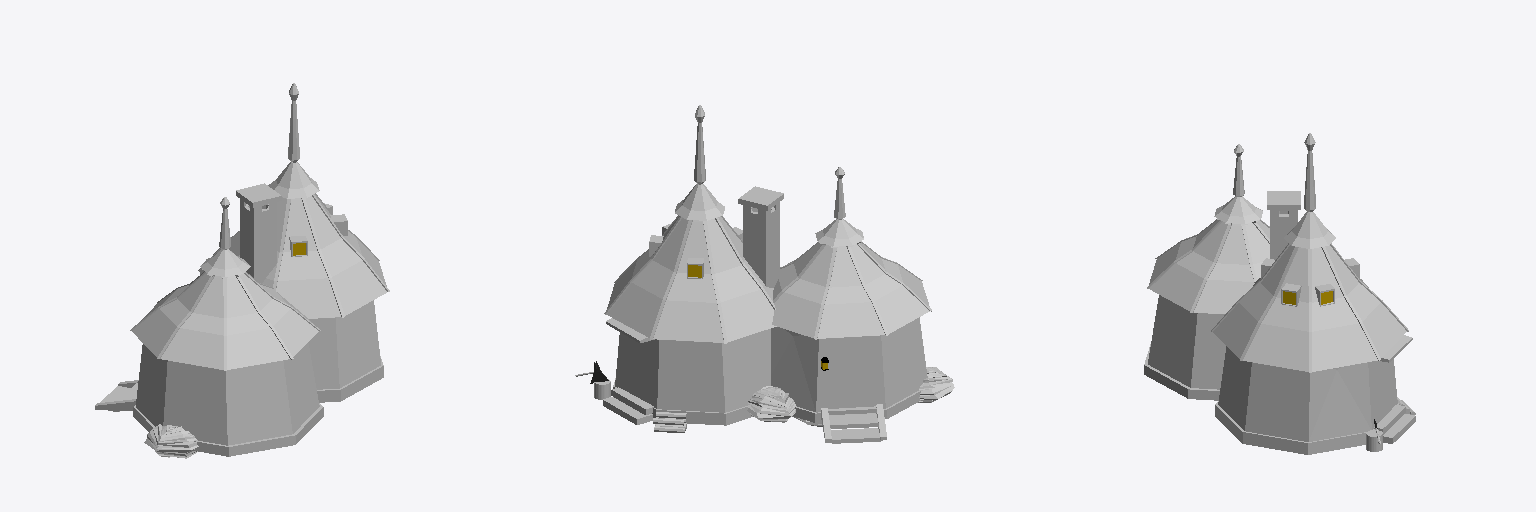
Rendered from hagrid.obj.
3 views of the same model, side by side, from view 1: azimuth 30°, elevation 25°; view 2: azimuth 150°, elevation 25°; view 3: azimuth 270°, elevation 25° (orthographic).
Parts seen in each view (by area): view 1: Circle.003, Circle.004, Circle.001, Circle, Cube, Circle.002, Circle.005, Sphere.002, Cube.018; view 2: Circle.001, Circle.004, Circle.003, Circle, Cube, Cube.018, Circle.002, Sphere.001, Circle.005, Sphere.002, Cylinder.003, Cube.011; view 3: Circle.001, Circle, Circle.004, Circle.003, Circle.002, Cube, Circle.005.
Boxes of the visible parts, box(x1,y1,x2,y2) form: Circle.003: box(133, 343, 323, 456); Circle.004: box(130, 269, 320, 370); Circle.001: box(198, 193, 389, 318); Circle: box(308, 300, 383, 402); Cube: box(236, 183, 281, 283); Circle.002: box(268, 83, 319, 198); Circle.005: box(200, 197, 250, 276); Sphere.002: box(144, 424, 198, 458); Cube.018: box(95, 380, 138, 411); Circle.001: box(604, 215, 776, 343); Circle.004: box(772, 241, 931, 339); Circle.003: box(771, 317, 927, 422); Circle: box(613, 329, 770, 425); Cube: box(738, 186, 783, 287); Cube.018: box(821, 404, 886, 443); Circle.002: box(675, 105, 724, 220); Sphere.001: box(747, 386, 795, 422); Circle.005: box(815, 167, 863, 246); Sphere.002: box(918, 367, 954, 402); Cylinder.003: box(653, 412, 686, 432); Cube.011: box(603, 397, 652, 424); Circle.001: box(1211, 243, 1408, 372); Circle: box(1215, 346, 1399, 454); Circle.004: box(1147, 218, 1269, 313); Circle.003: box(1144, 295, 1225, 400); Circle.002: box(1284, 133, 1335, 248); Cube: box(1267, 191, 1300, 259); Circle.005: box(1214, 144, 1262, 223).
Size of the model in its own units: 10.17 by 10.08 by 8.37.